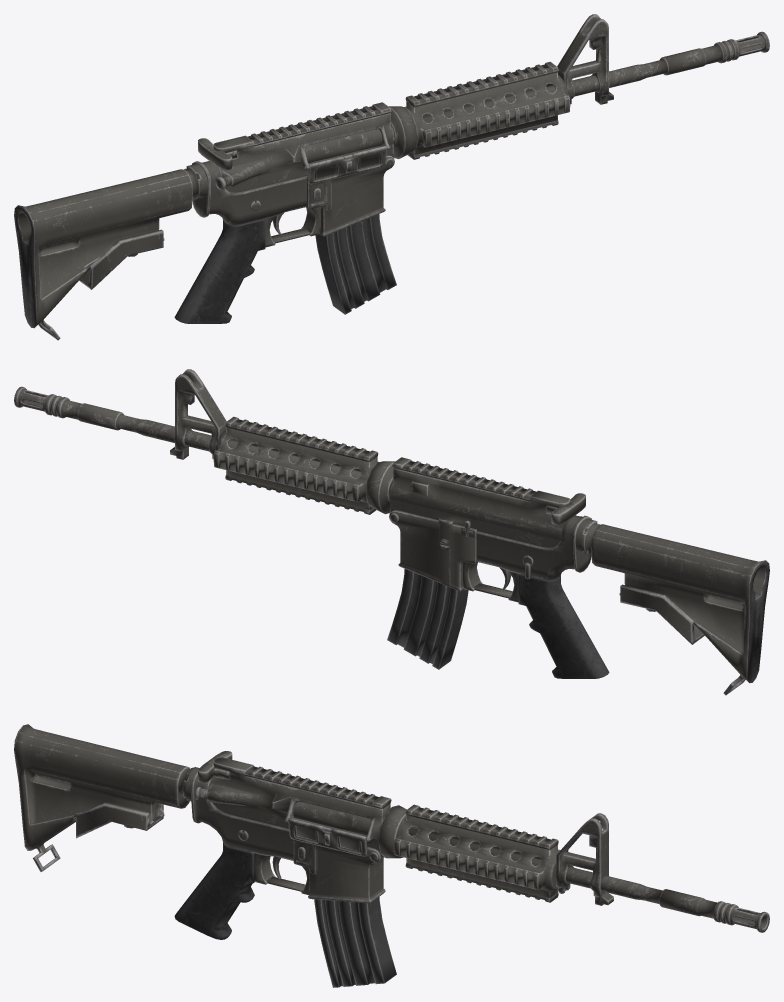
The picture shows the model from 3 angles, top to bottom: view 1: azimuth 30°, elevation 25°; view 2: azimuth 150°, elevation 25°; view 3: azimuth 330°, elevation 25°; orthographic projection.
Parts seen in each view (by area): view 1: M4, MR_Magazine; view 2: M4, MR_Magazine; view 3: M4, MR_Magazine.
Boxes of the visible parts, x1,y1,x2,y2 form: M4: (14, 14, 769, 340); MR_Magazine: (315, 214, 396, 314); M4: (14, 369, 769, 695); MR_Magazine: (387, 569, 468, 669); M4: (14, 724, 769, 939); MR_Magazine: (314, 896, 396, 987).
Bounding box in the file's own units: 467 × 139 × 34.8.
